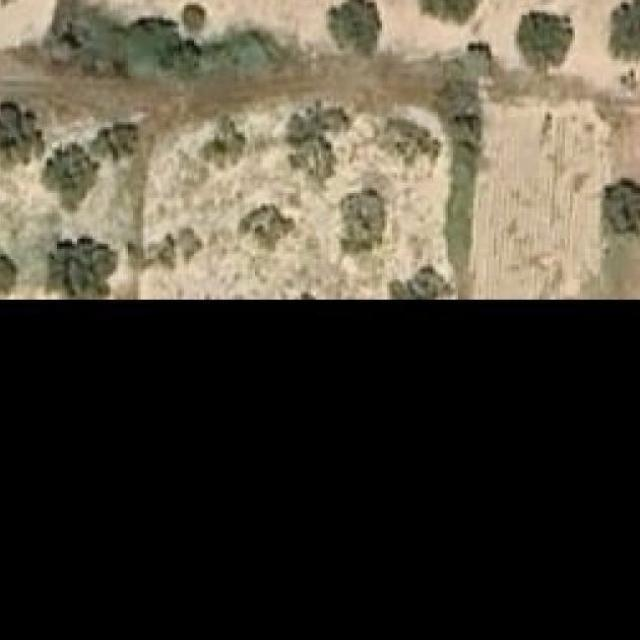Tree: (47, 234, 118, 298), (286, 101, 344, 178), (514, 12, 573, 81), (41, 144, 100, 213), (0, 96, 47, 172), (382, 110, 443, 166), (341, 183, 387, 252), (328, 0, 382, 58), (238, 206, 302, 252), (377, 264, 456, 300), (126, 231, 197, 269), (602, 178, 640, 239), (199, 119, 245, 168), (101, 120, 146, 165), (610, 0, 640, 64), (420, 0, 481, 23), (177, 0, 207, 34), (0, 252, 19, 297)
